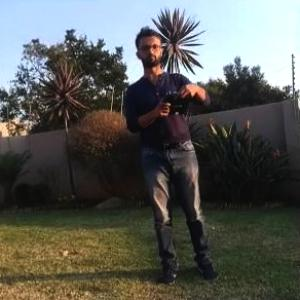follow: (123, 17, 225, 288)
